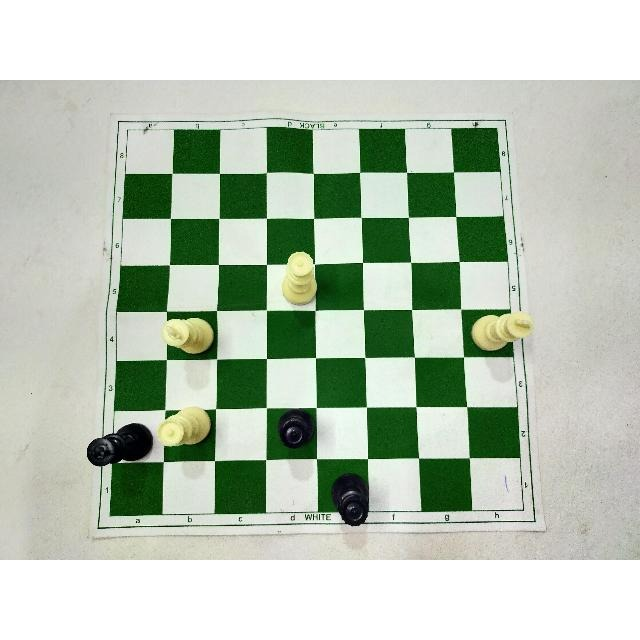black-king: (84, 421, 153, 467)
black-queen: (331, 472, 368, 529), (277, 408, 315, 449)
white-king: (468, 310, 535, 354), (161, 314, 214, 358)
white-queen: (159, 403, 211, 451), (282, 249, 319, 307)
